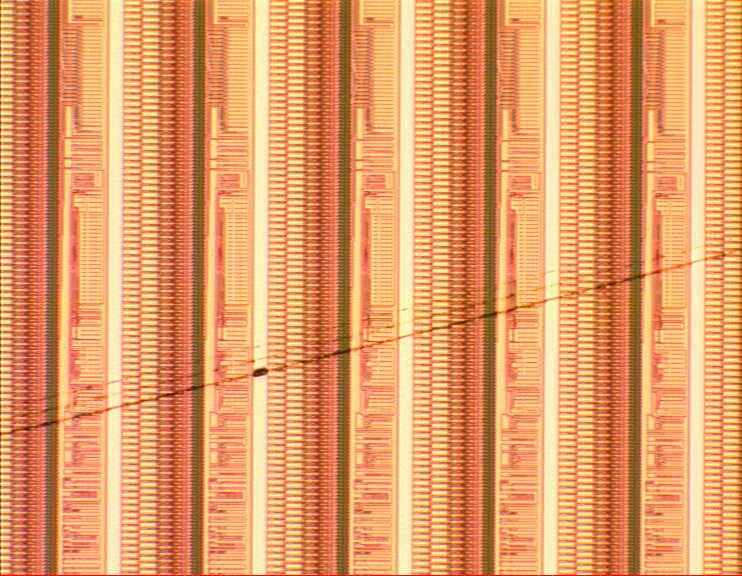SCRATCH: (1, 232, 742, 443)
